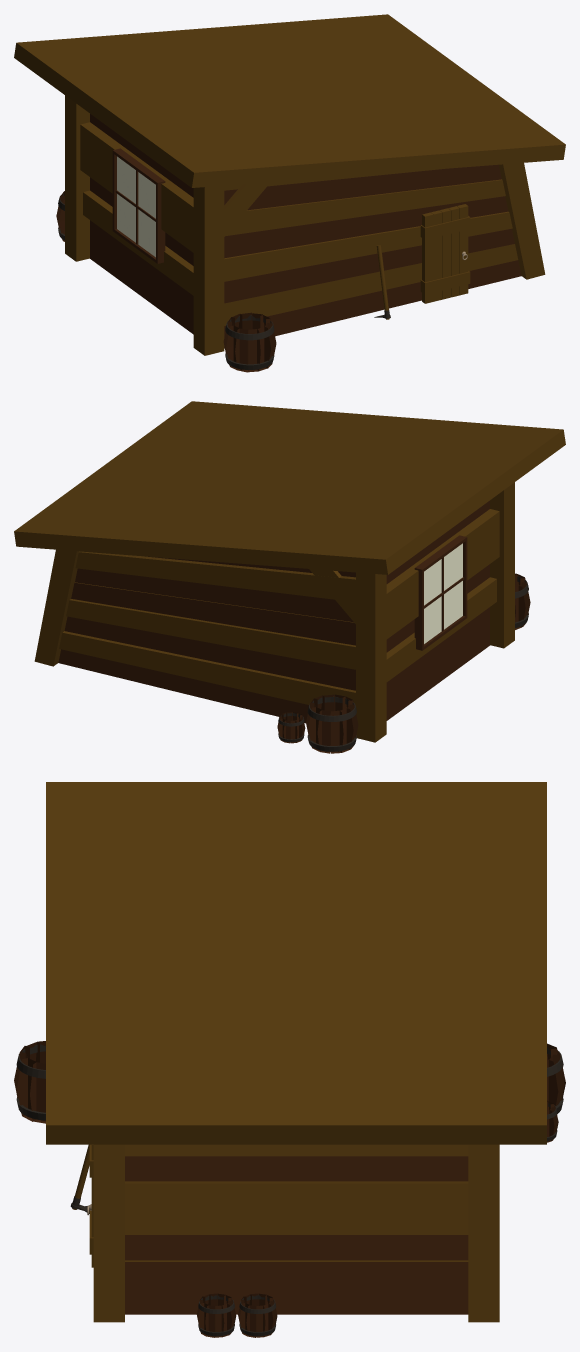
The model's file is T2FarmV1.fbx.
3 renders of one model, top to bottom at view 1: azimuth 30°, elevation 25°; view 2: azimuth 150°, elevation 25°; view 3: azimuth 270°, elevation 25°, orthographic. The views are drawn at different scales.
Parts seen in each view (by area): view 1: Cube, Cube.001, Cube.006, Door|Cube.041|Dupli|, Cube.002, Barrel|Cube.005|Dupli|, Door|Cube.044|Dupli|1, Cube.003, Barrel|Circle|Dupli|1; view 2: Cube, Cube.001, Cube.006, Cube.002, Barrel.001|Cube.005|Dupli|, Barrel.001|Circle|Dupli|1, Barrel.002|Cube.005|Dupli|, Barrel|Cube.005|Dupli|, Cube.003; view 3: Cube, Cube.002, Barrel|Cube.005|Dupli|, Barrel.004|Cube.005|Dupli|, Barrel.003|Cube.005|Dupli|, Barrel.001|Cube.005|Dupli|.
Part boxes in pixels (bbox=[...]): Cube: bbox=[14, 14, 565, 348]; Cube.001: bbox=[65, 95, 224, 355]; Cube.006: bbox=[112, 148, 165, 263]; Door|Cube.041|Dupli|: bbox=[422, 204, 468, 303]; Cube.002: bbox=[499, 163, 545, 279]; Barrel|Cube.005|Dupli|: bbox=[223, 312, 276, 372]; Door|Cube.044|Dupli|1: bbox=[420, 216, 470, 294]; Cube.003: bbox=[224, 182, 270, 236]; Barrel|Circle|Dupli|1: bbox=[225, 315, 274, 369]; Cube: bbox=[14, 401, 565, 723]; Cube.001: bbox=[356, 482, 514, 742]; Cube.006: bbox=[414, 535, 467, 650]; Cube.002: bbox=[34, 549, 79, 666]; Barrel.001|Cube.005|Dupli|: bbox=[306, 694, 358, 753]; Barrel.001|Circle|Dupli|1: bbox=[307, 696, 356, 751]; Barrel.002|Cube.005|Dupli|: bbox=[277, 712, 305, 743]; Barrel|Cube.005|Dupli|: bbox=[515, 573, 530, 629]; Cube.003: bbox=[309, 569, 355, 623]; Cube: bbox=[46, 782, 546, 1314]; Cube.002: bbox=[93, 1144, 499, 1322]; Barrel|Cube.005|Dupli|: bbox=[14, 1041, 45, 1123]; Barrel.004|Cube.005|Dupli|: bbox=[238, 1293, 277, 1337]; Barrel.003|Cube.005|Dupli|: bbox=[197, 1293, 236, 1337]; Barrel.001|Cube.005|Dupli|: bbox=[547, 1043, 565, 1114].
Size of the model in its own units: 1018 by 508 by 877.
